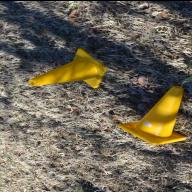cone: (119, 84, 187, 144), (28, 47, 108, 87)
